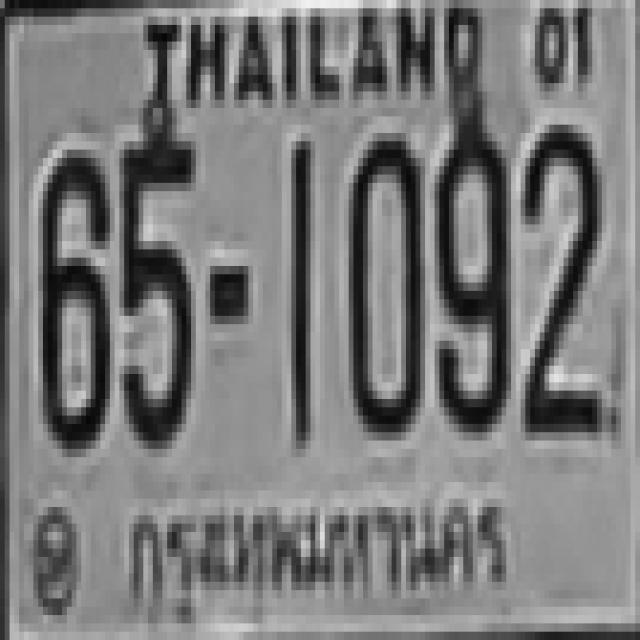0: (344, 133, 420, 432)
1: (289, 137, 308, 445)
2: (521, 121, 597, 428)
5: (119, 117, 191, 440)
6: (38, 146, 105, 444)
9: (430, 116, 506, 424)
Bangkok: (125, 492, 521, 622)
